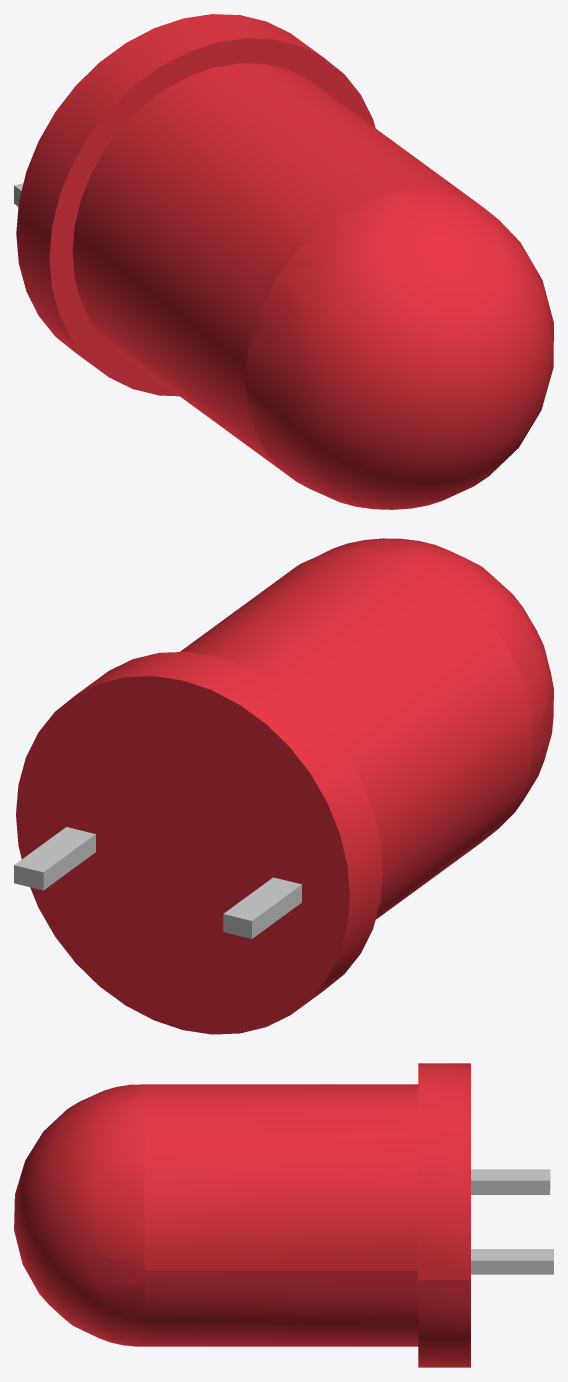
File: led.glb
3 views of the same model, one above another, from view 1: azimuth 30°, elevation 25°; view 2: azimuth 150°, elevation 25°; view 3: azimuth 270°, elevation 25° (orthographic). The views are drawn at different scales.
Parts seen in each view (by area): view 1: Funda; view 2: Funda, Anodo, Catodo; view 3: Funda, Anodo, Catodo.
Boxes of the visible parts, x1,y1,x2,y2 form: Funda: (16, 14, 553, 509); Funda: (16, 538, 553, 1034); Anodo: (14, 827, 95, 890); Catodo: (223, 877, 301, 938); Funda: (14, 1063, 470, 1367); Anodo: (471, 1249, 553, 1274); Catodo: (471, 1169, 550, 1194).
Bounding box in the file's own units: 5.8 × 5.8 × 10.26.
